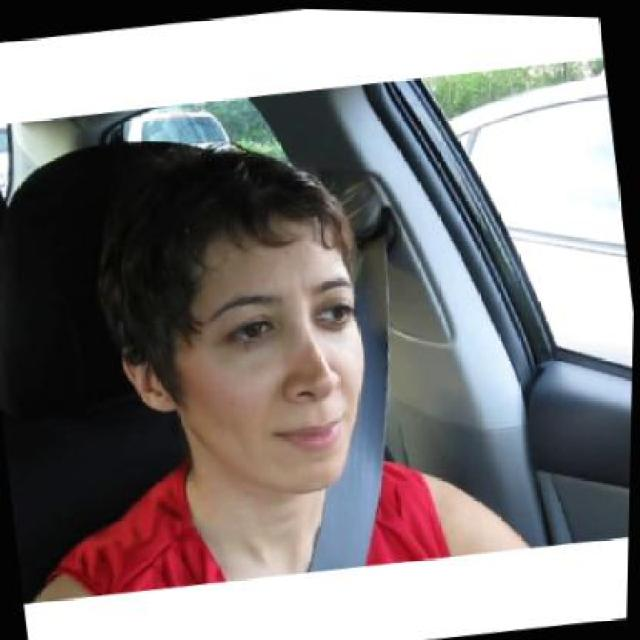attentif: (91, 122, 387, 513)
